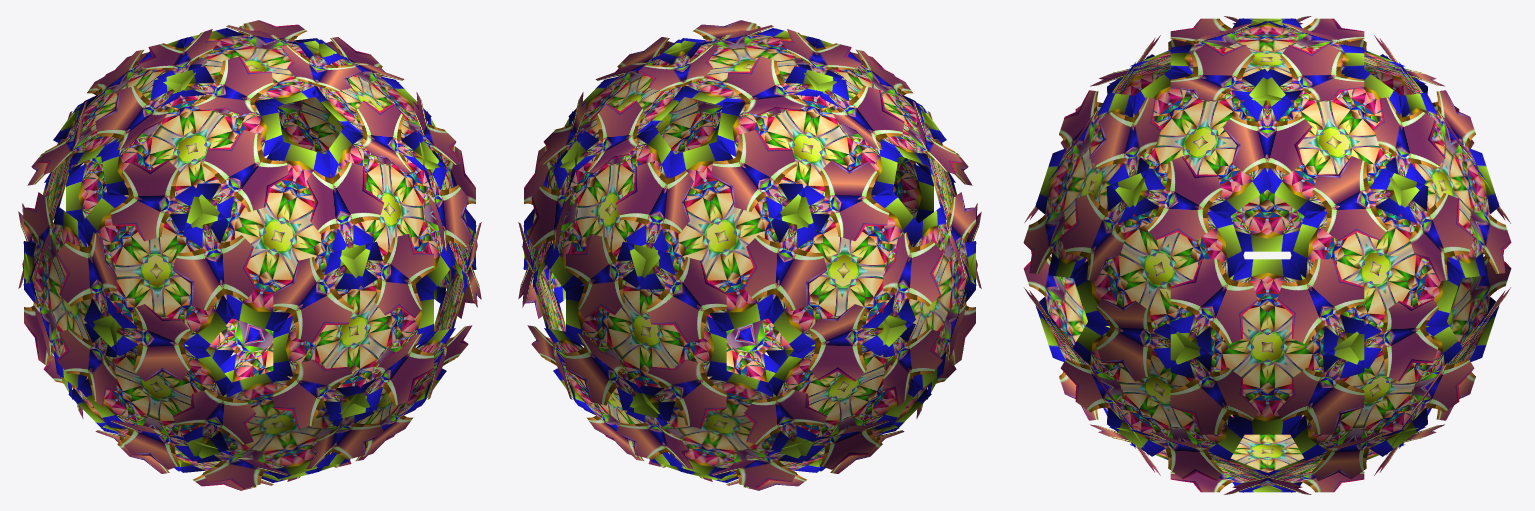
File: 1Rhombidodecadodecahedron.gltf
3 renders of one model, left to right at view 1: azimuth 30°, elevation 25°; view 2: azimuth 150°, elevation 25°; view 3: azimuth 270°, elevation 25°, orthographic. The views are drawn at different scales.
Visible parts, largest first — view 1: Rhombidodecadodecahedron9; view 2: Rhombidodecadodecahedron9; view 3: Rhombidodecadodecahedron9.
Part boxes in pixels (left/top/right/bottom): Rhombidodecadodecahedron9: left=18, top=20, right=481, bottom=490; Rhombidodecadodecahedron9: left=518, top=20, right=981, bottom=490; Rhombidodecadodecahedron9: left=1023, top=16, right=1511, bottom=494.
Size of the model in its own units: 2.62 by 2.62 by 2.62.
Materials: 1 (1 with a texture image).
